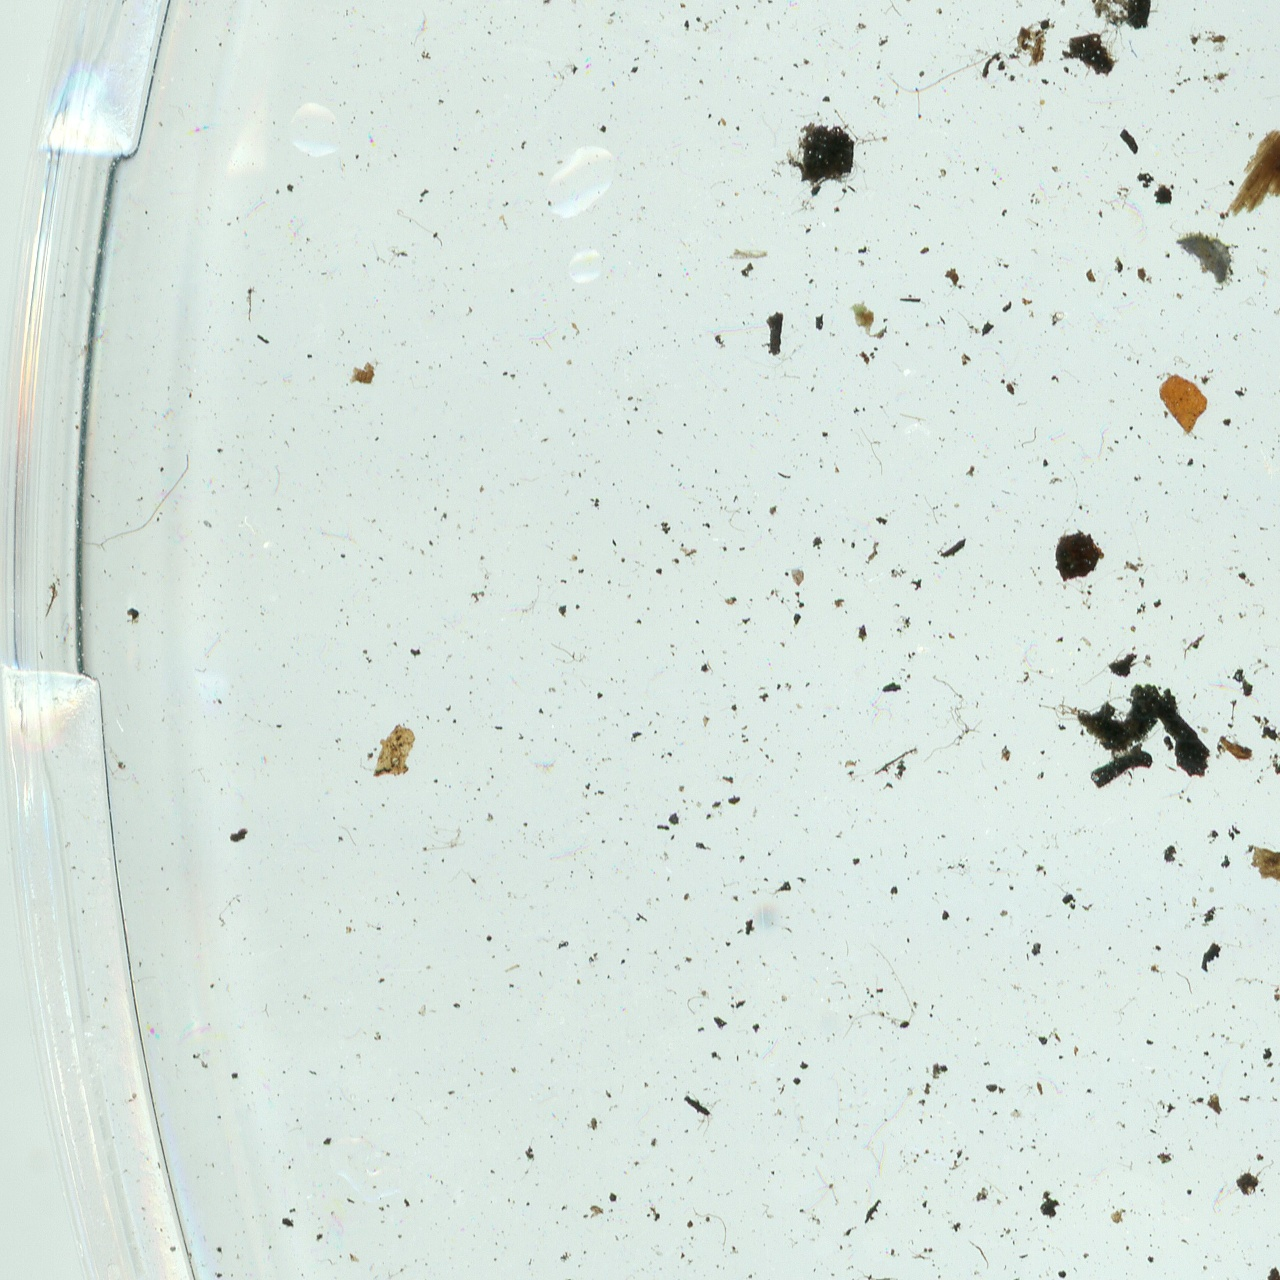arthropod: (1170, 230, 1239, 294)
